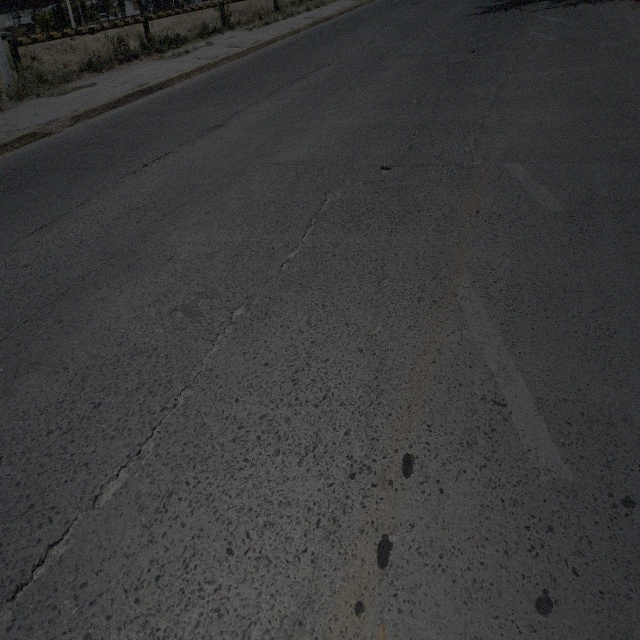pothole: (379, 163, 391, 174)
